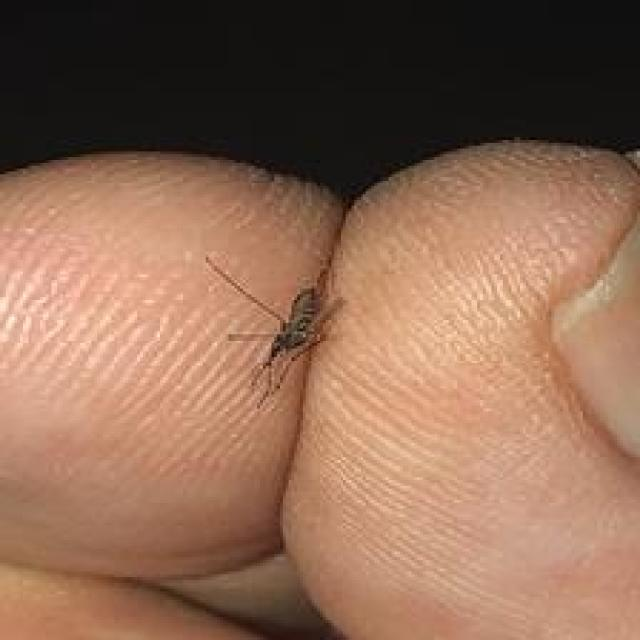Aedes albopictus: (203, 252, 346, 408)
